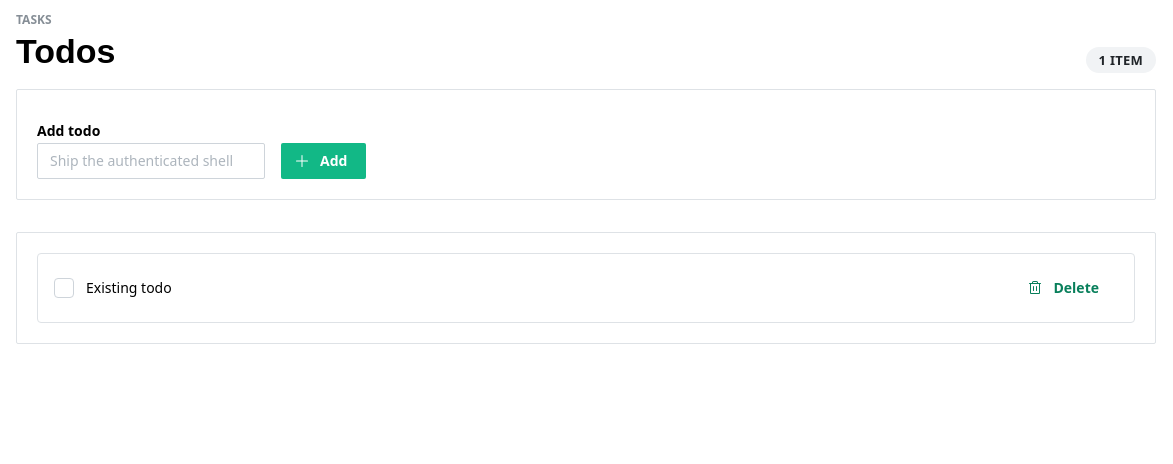
Test: TodosPage › shows inline update or delete errors while keeping the last good list rendered
Expected: the text "Existing todo" is shown, [86,278,172,297]
Click the checkbox named "Toggle Existing todo".
click(64, 288)  # box [54,278,74,298]
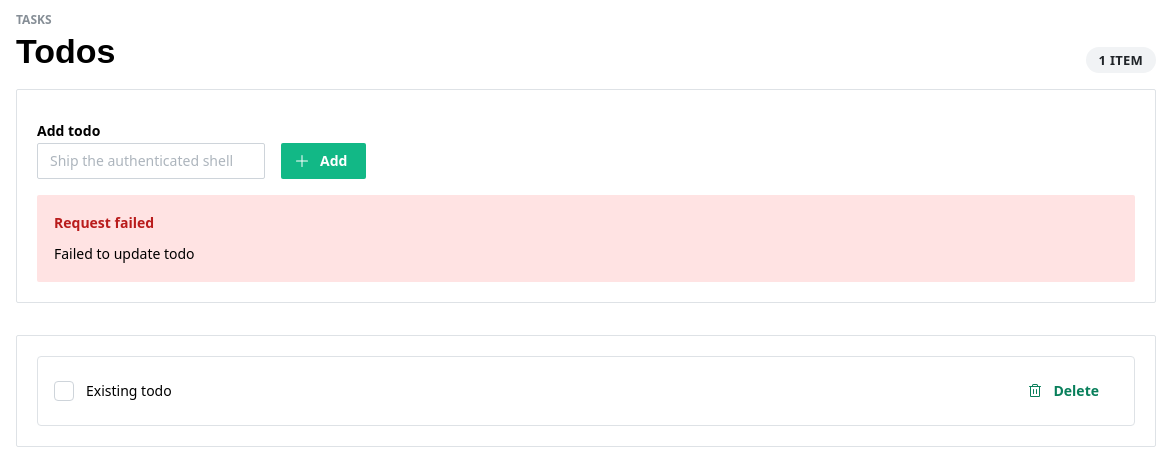
Expected: the text "Existing todo" is shown, [86,381,172,400]
Expected: the text "Failed to update todo" is shown, [54,244,195,264]
Click the button "Delete".
click(1066, 391)  # box [1014,373,1118,409]
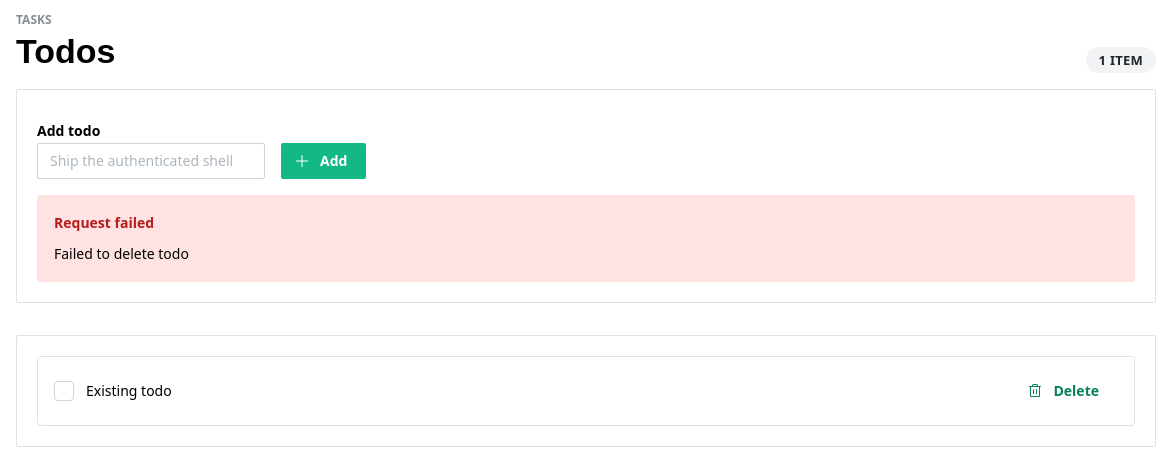
Expected: the text "Existing todo" is shown, [86,381,172,400]
Expected: the text "Failed to delete todo" is shown, [54,244,189,264]
